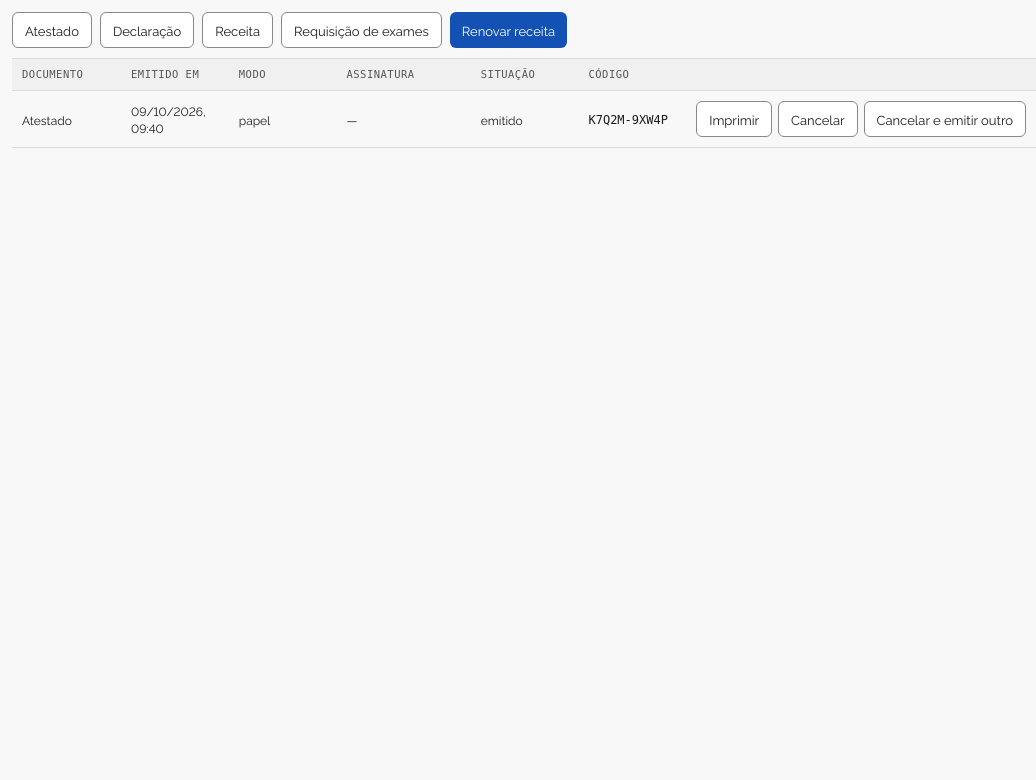
Test: ConsultationDocuments › Renovar com um controlado: a recusa diz qual item e o formulário fica preenchido
This screenshot has width=1036, height=780.
Click the button "Renovar receita". click: (508, 30)
box: [450,12,567,48]
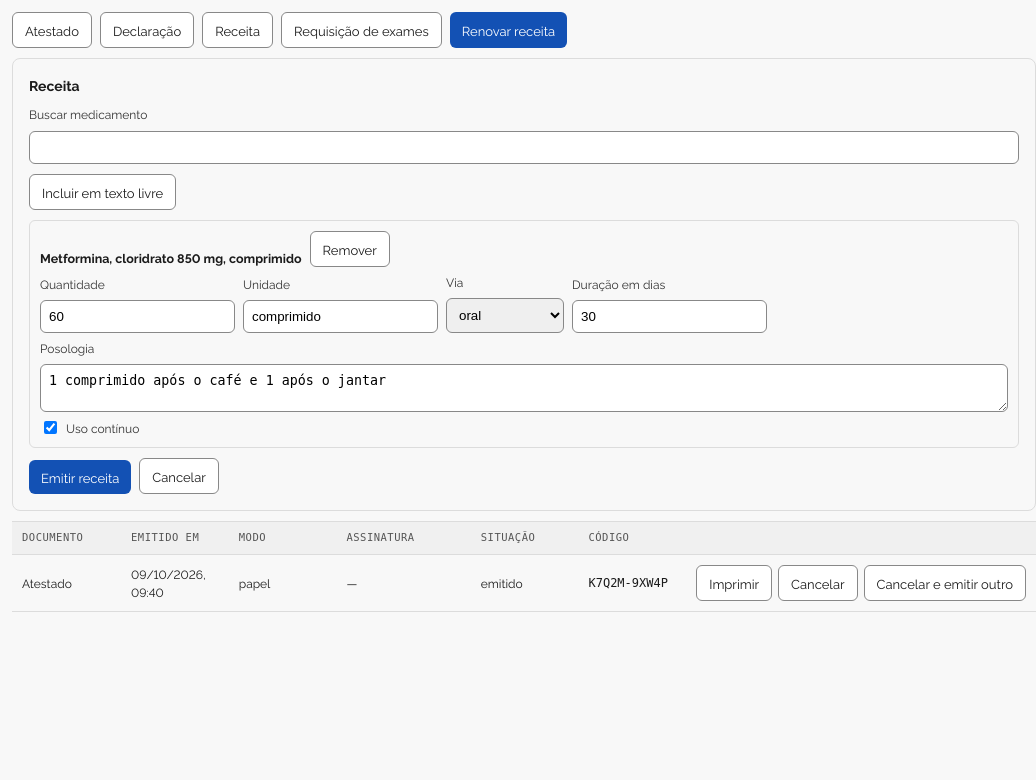
Click the button "Emitir receita". click: (80, 478)
box: [29,460,131,494]
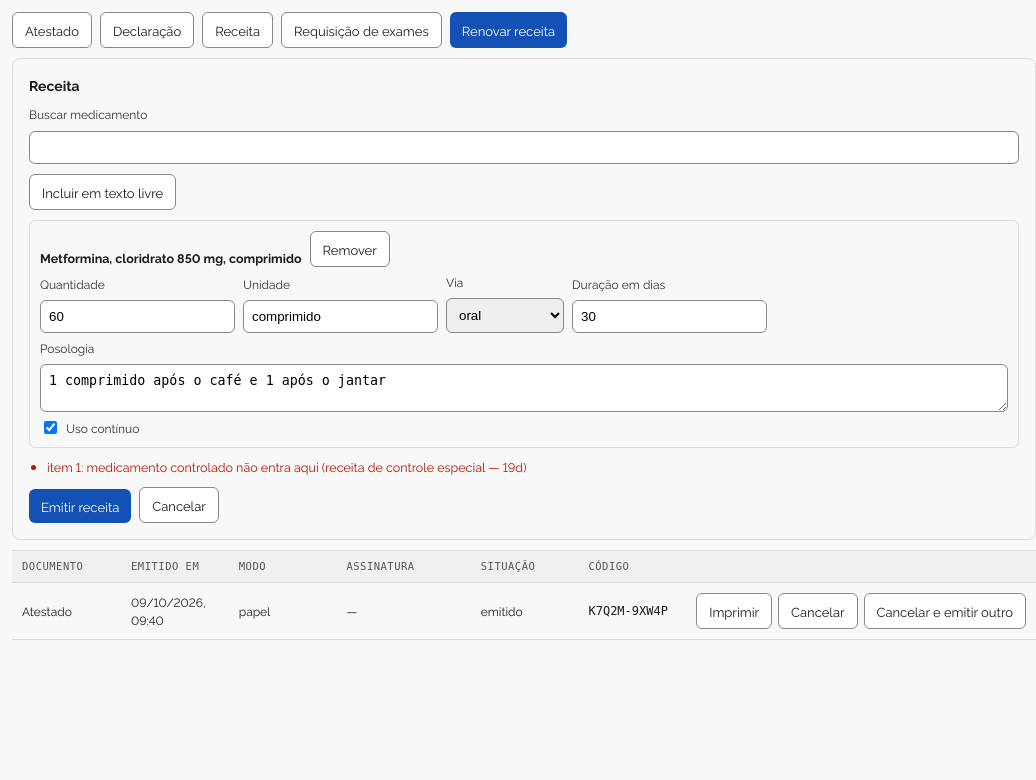
expect the field named "Quantidade do item 1" holds "60": met, box [40,300,235,333]
expect the list item "item 1: medicamento controlado não entra aqui (receita de controle especial — 19d)" is shown: met, box [47,458,526,476]
